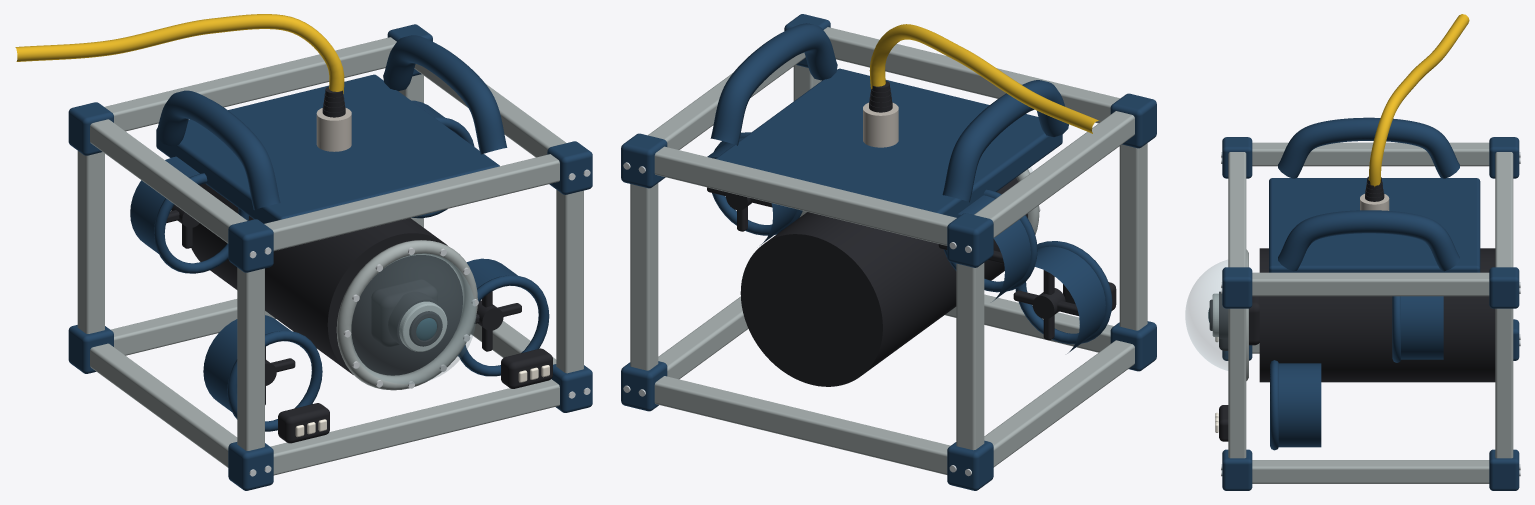
Rendered from robots-26.glb.
The picture shows the model from 3 angles, left to right: view 1: azimuth 30°, elevation 25°; view 2: azimuth 150°, elevation 25°; view 3: azimuth 270°, elevation 25°; orthographic projection. The views are drawn at different scales.
Visible parts, largest first — view 1: frame, enclosure, dome, thrusters, guards, handles, flange, tether, camera, lamps, impellers, gland; view 2: frame, enclosure, guards, handles, thrusters, tether, impellers, gland; view 3: enclosure, frame, handles, thrusters, guards, dome, tether, camera, gland, lamps.
Part boxes in pixels (x1,y1,x2,y2): frame: (77, 37, 583, 475); enclosure: (156, 74, 499, 375); dome: (351, 253, 475, 383); thrusters: (130, 100, 549, 431); guards: (68, 24, 592, 490); handles: (156, 35, 507, 209); flange: (336, 240, 478, 390); tether: (15, 14, 344, 93); camera: (371, 279, 447, 351); lamps: (278, 348, 552, 443); impellers: (166, 205, 521, 404); gland: (316, 86, 351, 151); frame: (630, 27, 1147, 474); enclosure: (715, 68, 1062, 386); guards: (621, 14, 1156, 490); handles: (710, 23, 1068, 202); thrusters: (707, 132, 1112, 353); tether: (869, 24, 1098, 133); impellers: (707, 187, 1078, 340); gland: (863, 81, 898, 147); enclosure: (1259, 178, 1495, 382); frame: (1228, 142, 1513, 483); handles: (1278, 117, 1459, 271); thrusters: (1270, 296, 1443, 450); guards: (1221, 137, 1520, 490); dome: (1185, 260, 1227, 370); tether: (1368, 14, 1469, 186); camera: (1208, 291, 1259, 345); gland: (1360, 176, 1389, 210); lamps: (1215, 337, 1228, 441).
Bounding box in the file's own units: 2.27 × 1.85 × 1.81.
